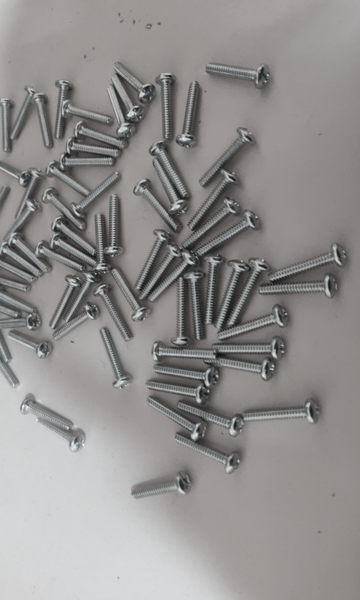longscrew: (199, 129, 253, 184), (197, 213, 266, 256), (216, 261, 257, 331), (225, 259, 266, 328), (267, 245, 349, 279), (182, 199, 238, 247), (187, 171, 234, 228), (152, 252, 198, 308), (149, 395, 206, 440), (218, 306, 287, 343), (134, 175, 178, 230), (141, 243, 182, 299), (176, 436, 241, 471), (151, 140, 190, 198), (94, 285, 133, 342), (93, 331, 132, 388), (177, 404, 246, 436), (258, 273, 342, 299), (134, 228, 166, 290), (237, 403, 330, 424), (62, 271, 100, 321), (73, 174, 119, 215), (203, 62, 274, 87), (133, 472, 194, 501), (153, 158, 182, 219), (4, 231, 48, 271), (114, 270, 148, 321), (184, 271, 208, 343), (55, 303, 98, 343), (41, 188, 86, 226), (170, 276, 194, 347), (178, 79, 202, 150), (110, 75, 144, 125), (37, 239, 81, 277), (52, 234, 96, 272), (52, 216, 96, 254), (47, 275, 79, 327), (205, 253, 228, 325), (45, 161, 89, 197), (206, 358, 276, 380), (9, 85, 38, 137), (148, 380, 213, 403), (214, 339, 285, 360), (74, 123, 127, 151), (114, 59, 152, 98), (1, 200, 38, 240), (108, 84, 135, 136), (14, 167, 41, 219), (38, 419, 83, 450), (155, 68, 171, 150), (0, 246, 42, 277), (90, 212, 110, 275), (150, 344, 216, 363), (21, 405, 74, 428), (106, 194, 125, 258), (156, 365, 217, 384), (32, 92, 52, 149), (7, 334, 52, 359), (64, 138, 122, 156), (53, 80, 70, 139), (63, 102, 116, 120), (58, 155, 116, 171), (0, 259, 36, 281), (0, 343, 17, 389), (0, 161, 32, 185), (0, 94, 13, 153), (0, 294, 38, 313), (0, 315, 42, 331), (0, 312, 11, 367), (0, 275, 34, 290), (0, 185, 8, 236), (0, 297, 19, 316)
